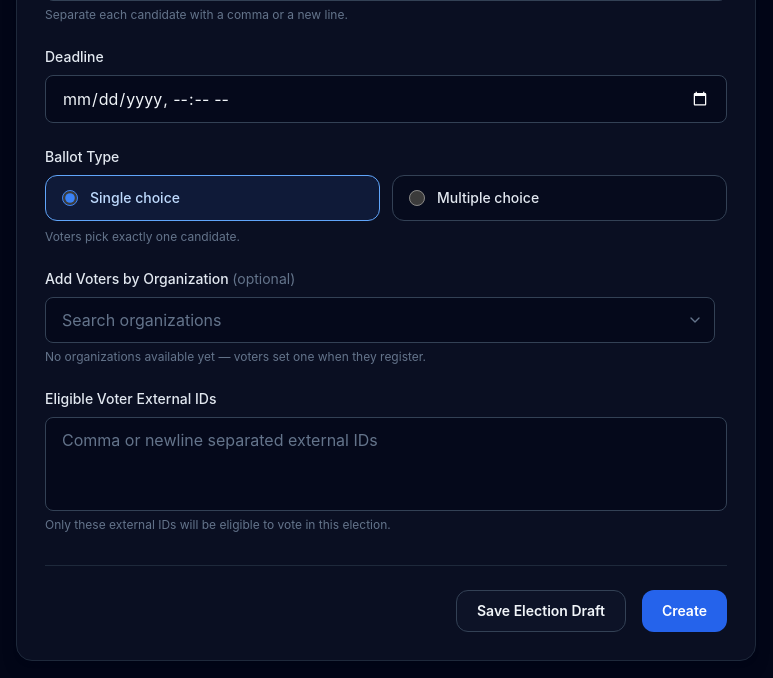
CreateElection organization selector › selecting a group fills the eligible-voter field with member external ids
(page scrolled)
In the dropdown labelled "Add Voters by Organization (optional)": (380, 320) [45,297,715,343], type "Engineering Club"
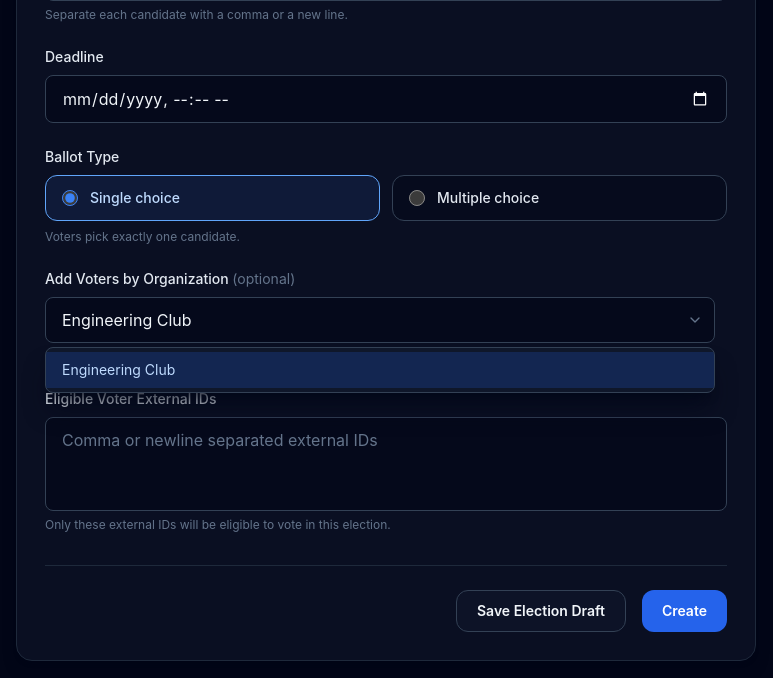
Click the option "Engineering Club": (119, 370) [46,352,714,388]
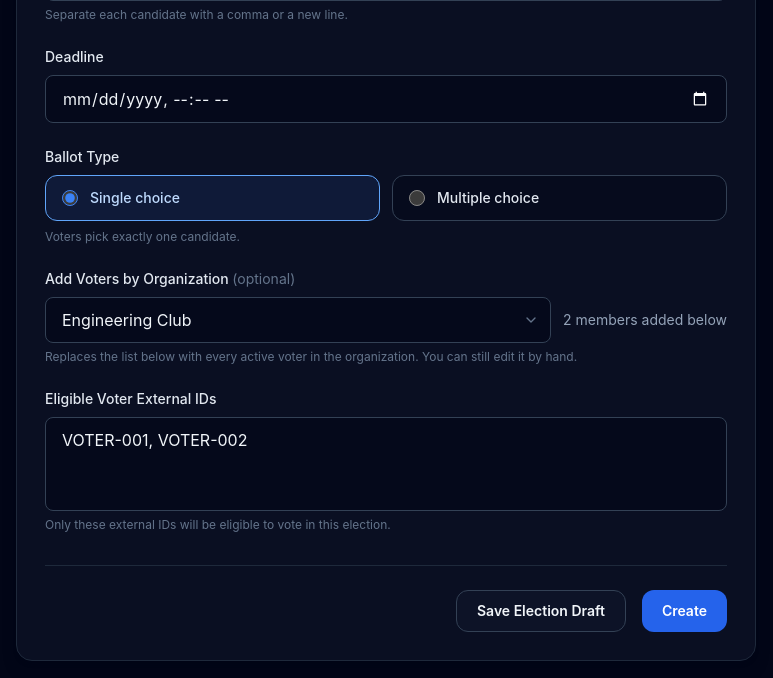
Result: the text box with placeholder "Comma or newline separated external IDs" holds "VOTER-001, VOTER-002" at [45,417,727,511]
